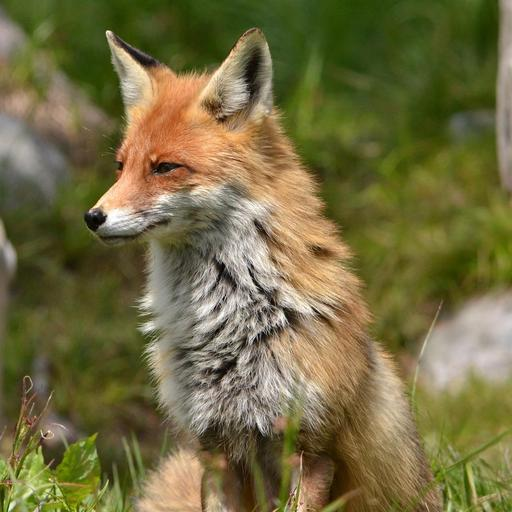Fox: (82, 22, 443, 506)
